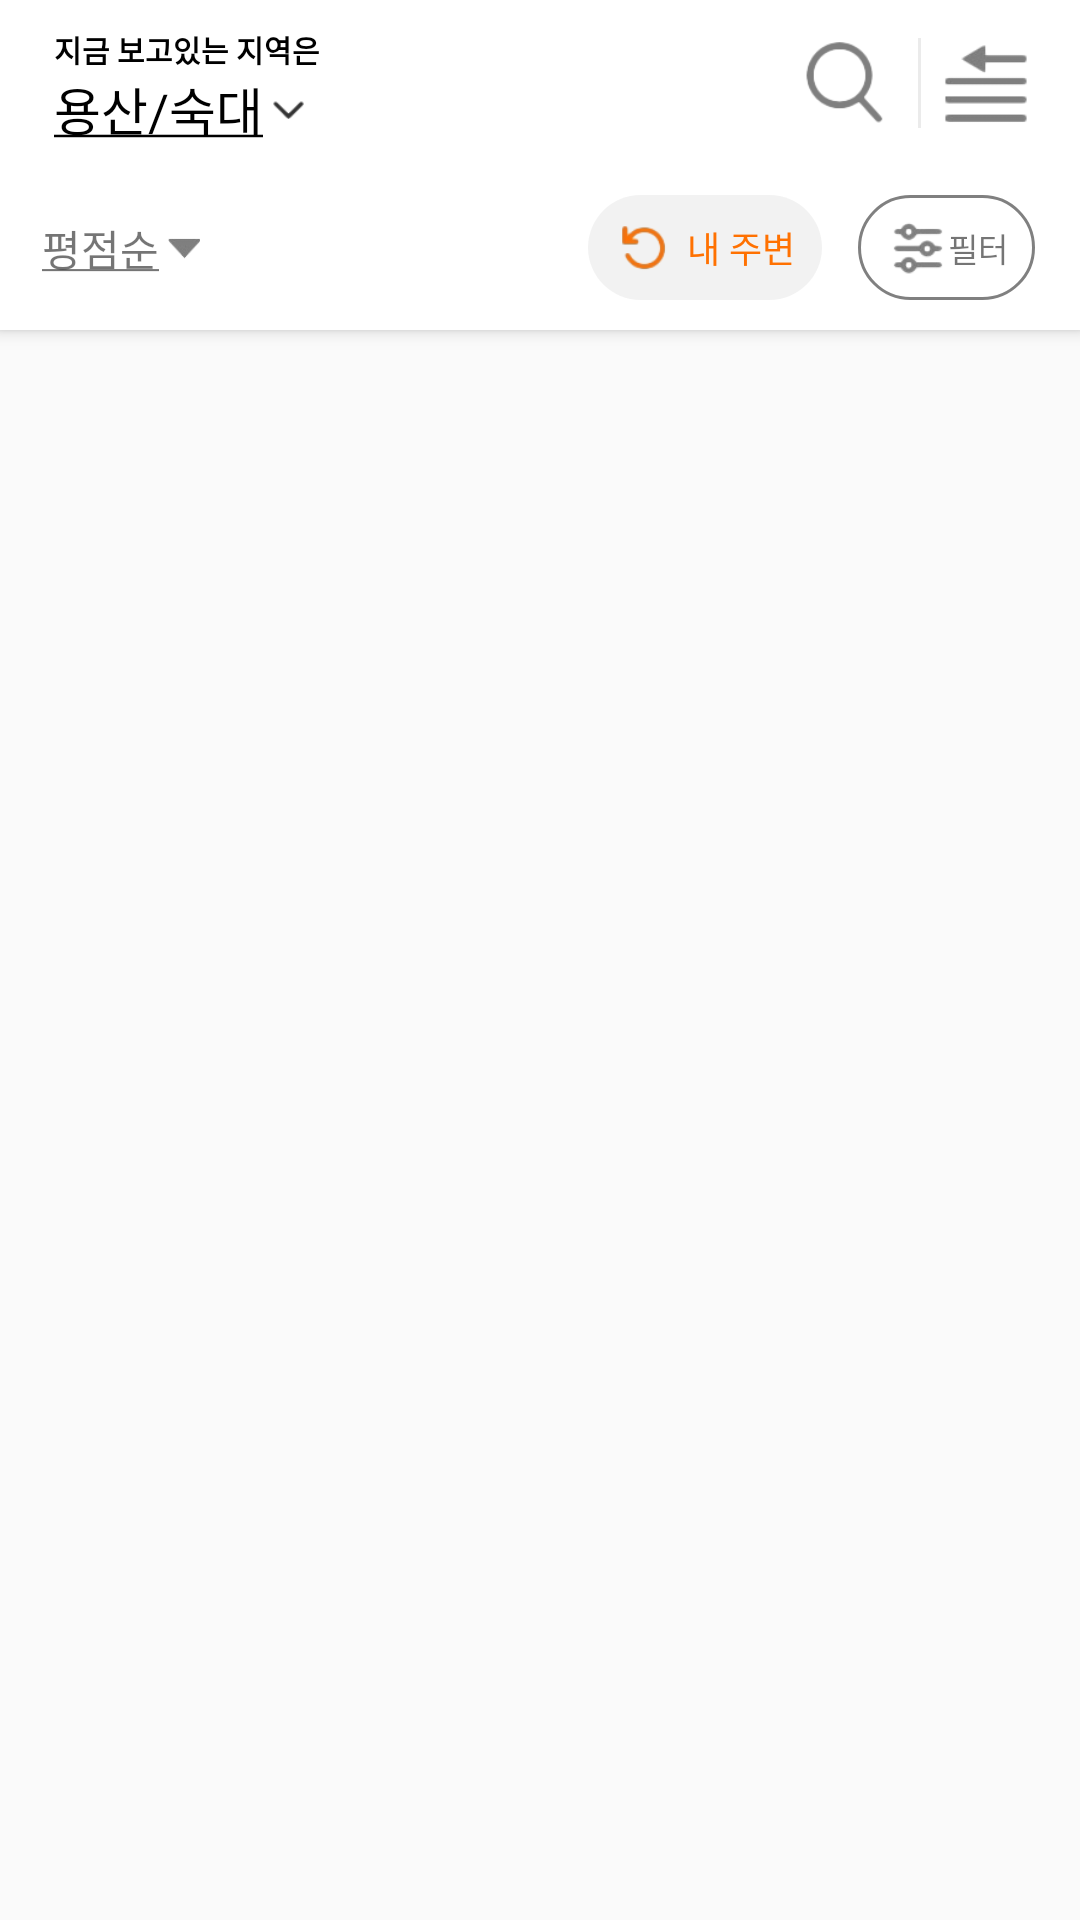

Icons on this 1080*1920 Android screen, each with its box as (x1,y1,x2,y2):
map back space: (945,45,1027,122)
reset: (622,226,665,269)
serach: (806,42,883,123)
